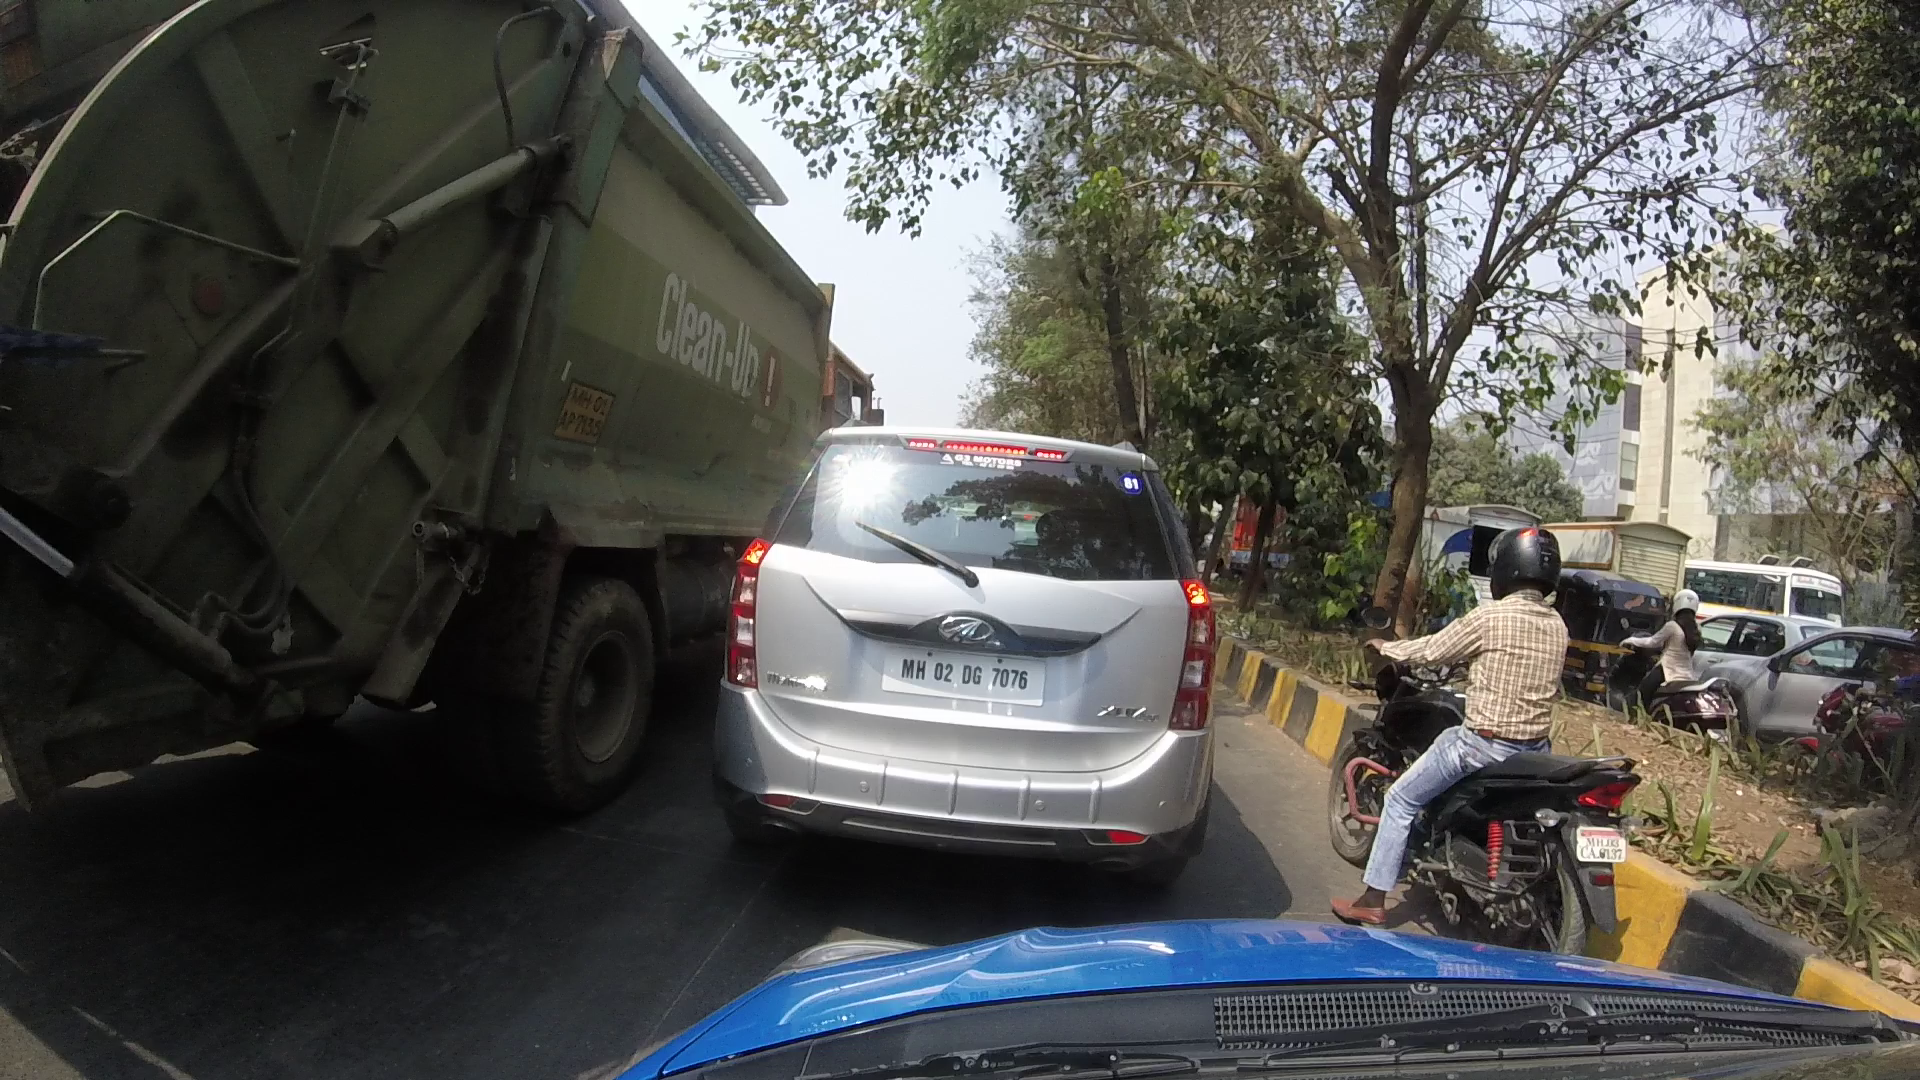bike/scooter: (1319, 513, 1658, 982)
car: (723, 419, 1249, 857)
truck: (13, 4, 890, 800)
